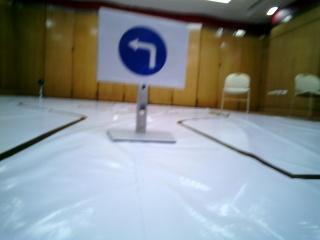left: (105, 10, 178, 86)
